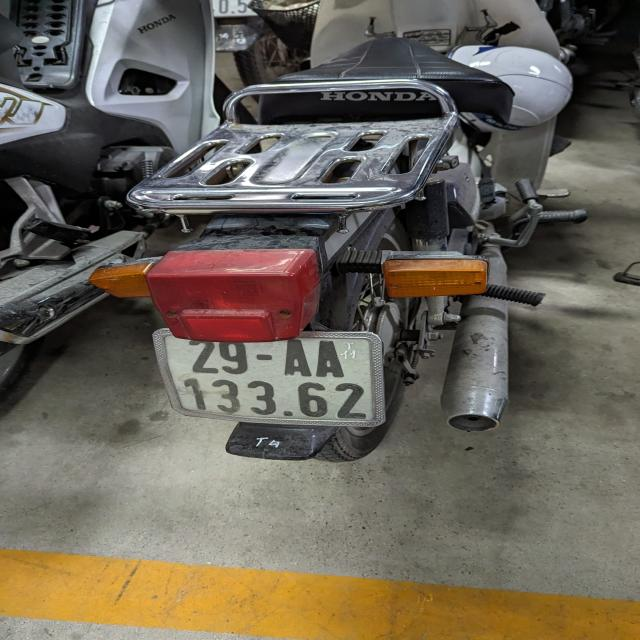License: (151, 328, 386, 428)
